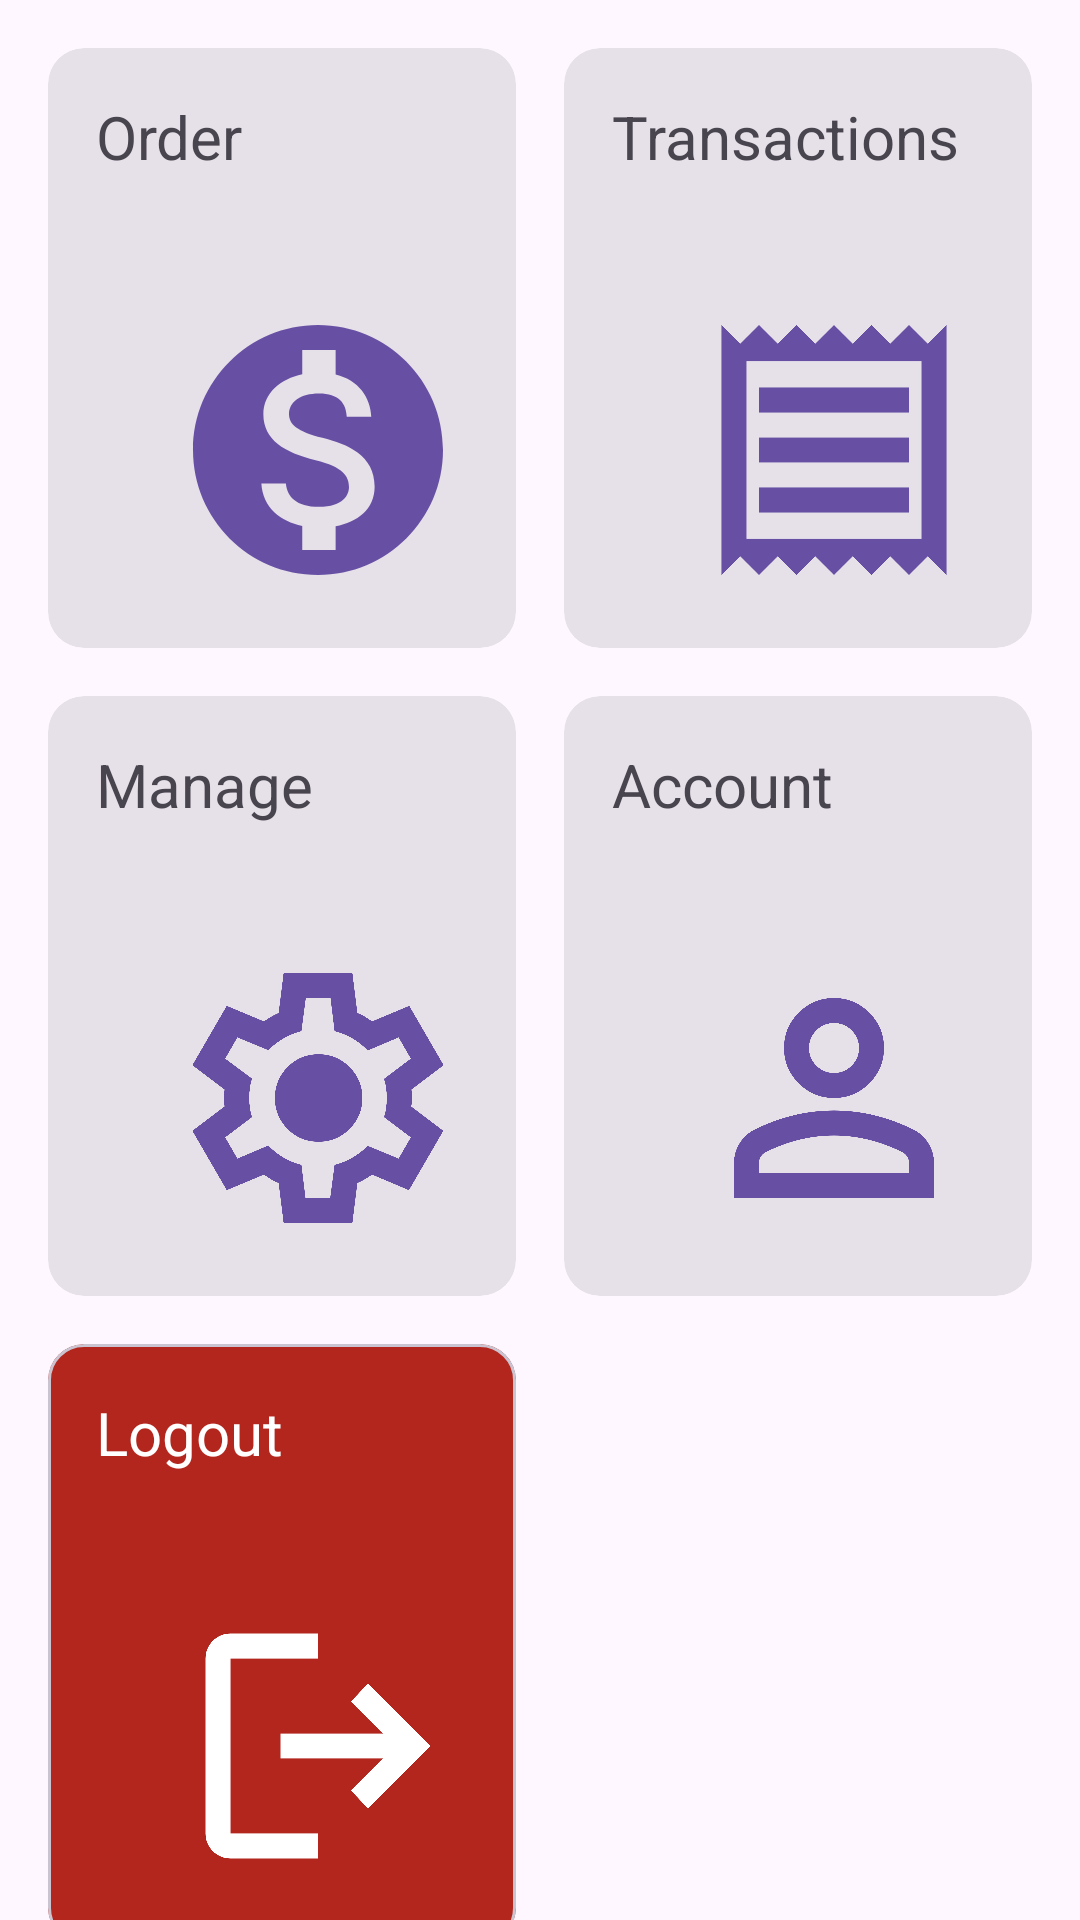

Where to tap for icons on this 1080w x 1920h app screen, as (x,y):
receipt: (834,450)
system: (318,1098)
user: (834,1098)
